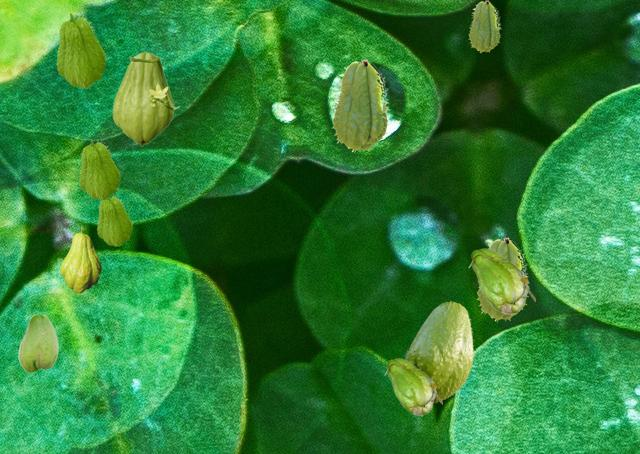sayote: (404, 301, 473, 403), (112, 52, 179, 145), (331, 59, 389, 152), (476, 237, 528, 321), (468, 248, 534, 314), (55, 12, 106, 87), (384, 358, 441, 415), (60, 226, 100, 292), (78, 138, 120, 199), (18, 314, 57, 371), (96, 194, 132, 245), (468, 0, 500, 52)
